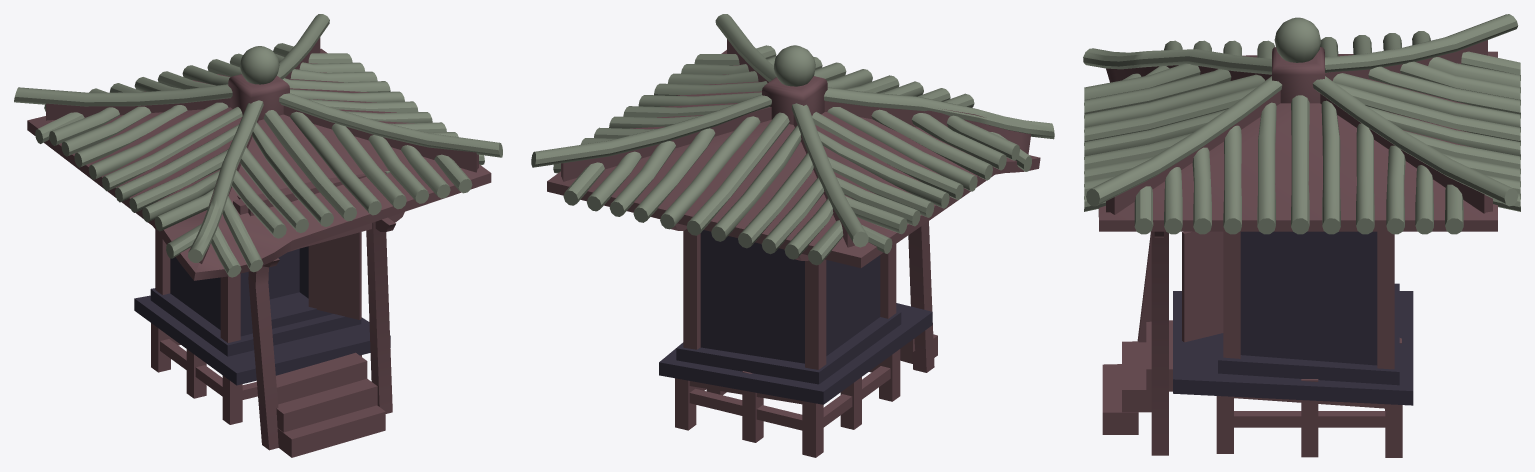
Rendered from Temple_01.fbx.
The picture shows the model from 3 angles, left to right: view 1: azimuth 30°, elevation 25°; view 2: azimuth 150°, elevation 25°; view 3: azimuth 270°, elevation 25°; orthographic projection. The views are drawn at different scales.
Visible parts, largest first — view 1: Temple_01; view 2: Temple_01; view 3: Temple_01.
Boxes of the visible parts, bbox=[...] form: Temple_01: bbox=[14, 14, 502, 457]; Temple_01: bbox=[531, 14, 1054, 457]; Temple_01: bbox=[1083, 14, 1520, 457].
Bounding box in the file's own units: 432 × 443 × 440.
